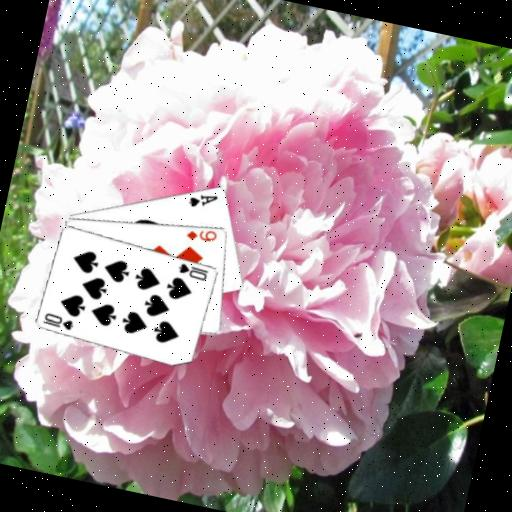10S: (39, 308, 77, 332), (174, 258, 211, 282)
9D: (182, 222, 220, 246)
AS: (185, 187, 220, 213)
